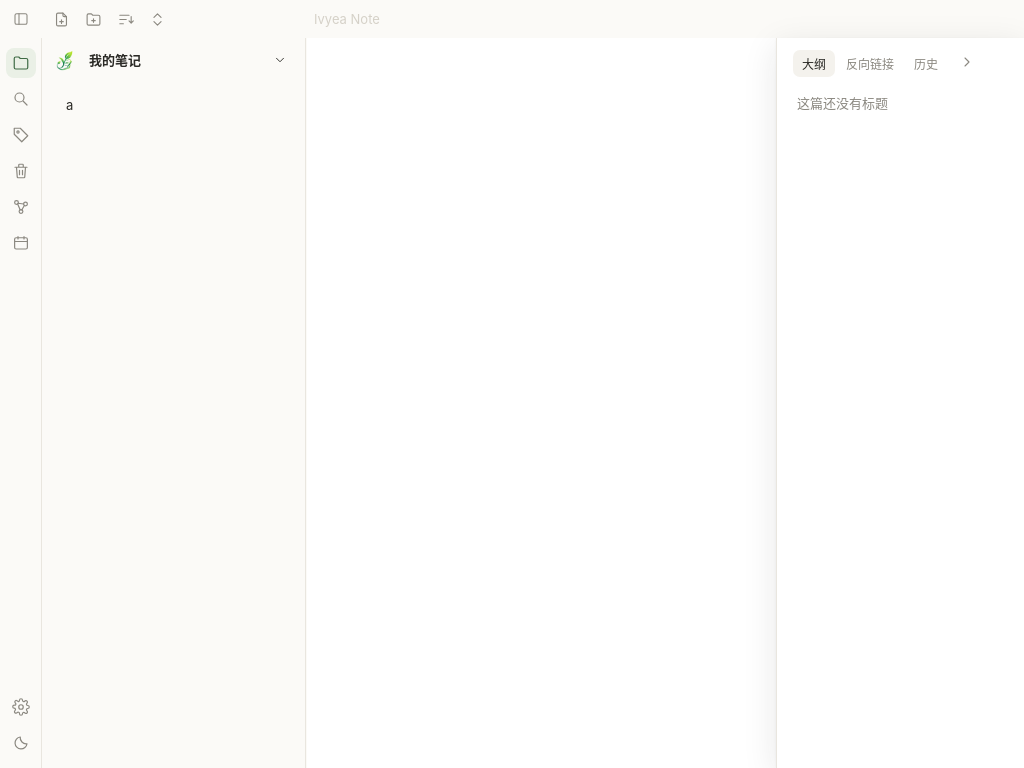
Test case: 顶栏删除与插入图片（v0.10.7） › 「插入图片」按钮在状态栏那一行——桌面此前一个入口都没有
The width and height of the screenshot is (1024, 768).
What coordinates should you click on to do the following:
click the element with class "ft-file"
I would click on:
 (70, 105)
Its box is [66, 97, 73, 113].
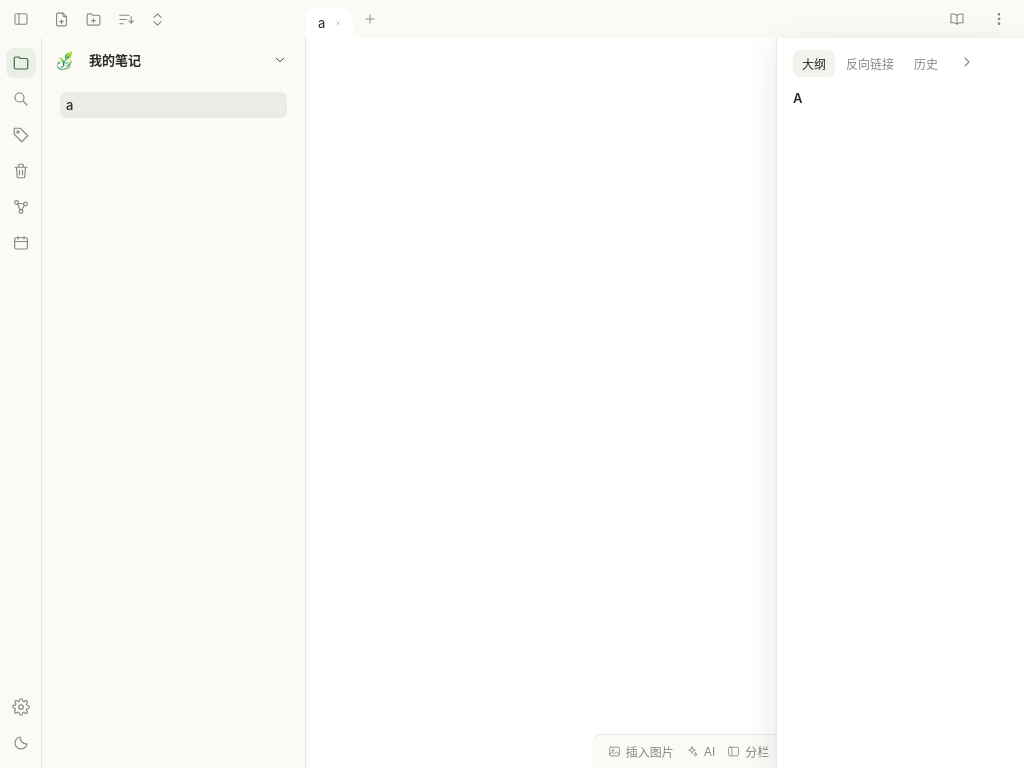
Now the button with aria-label "插入图片" is shown, box [608, 743, 674, 760]
